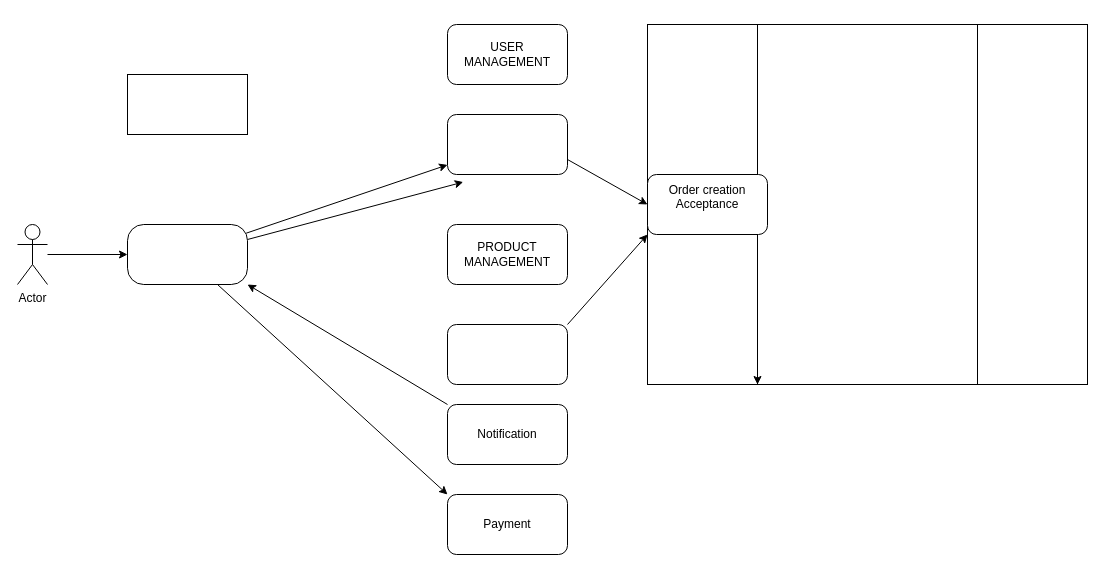
This 1105x572 diagram has some shape labels left out. The shapes that lost their labels are listed below. From the top down, each one's centre as x and y in pixels, then its label:
At (187,104): "A&A".
At (507,144): "ORDER CREATION".
At (507,354): "ORDER ALLOCATION".
